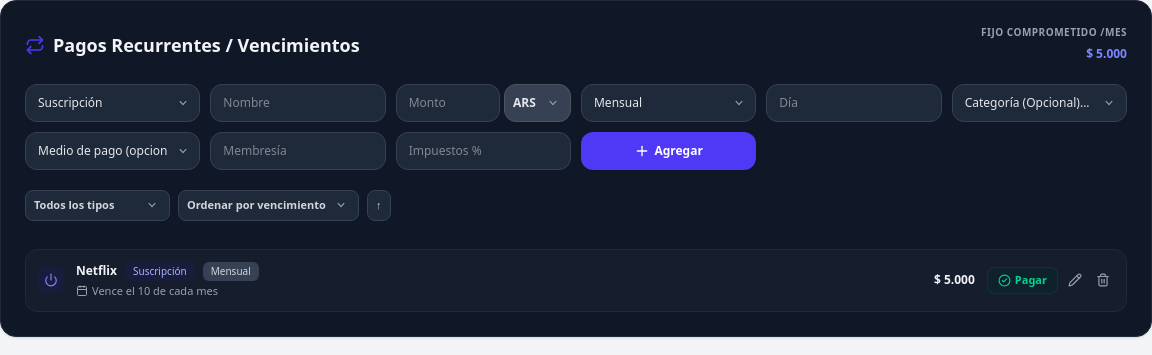
Test: RecurringManager — modo offline (Tanda 3) › eliminar una suscripción sin conexión encola un delete y la saca de la lista
Expected: the text "Netflix" is shown, [76,263,117,279]
Click the button titled "Eliminar". click: (1103, 280)
box: [1092,269,1114,291]
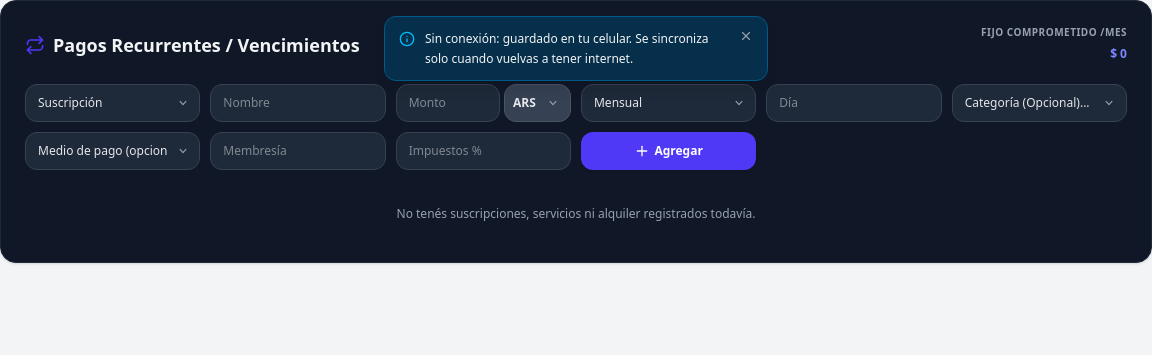
Expected: the text "Sin conexión: guardado en tu celular" is shown, [425,30,708,66]
Expected: the text "Netflix" is gone
